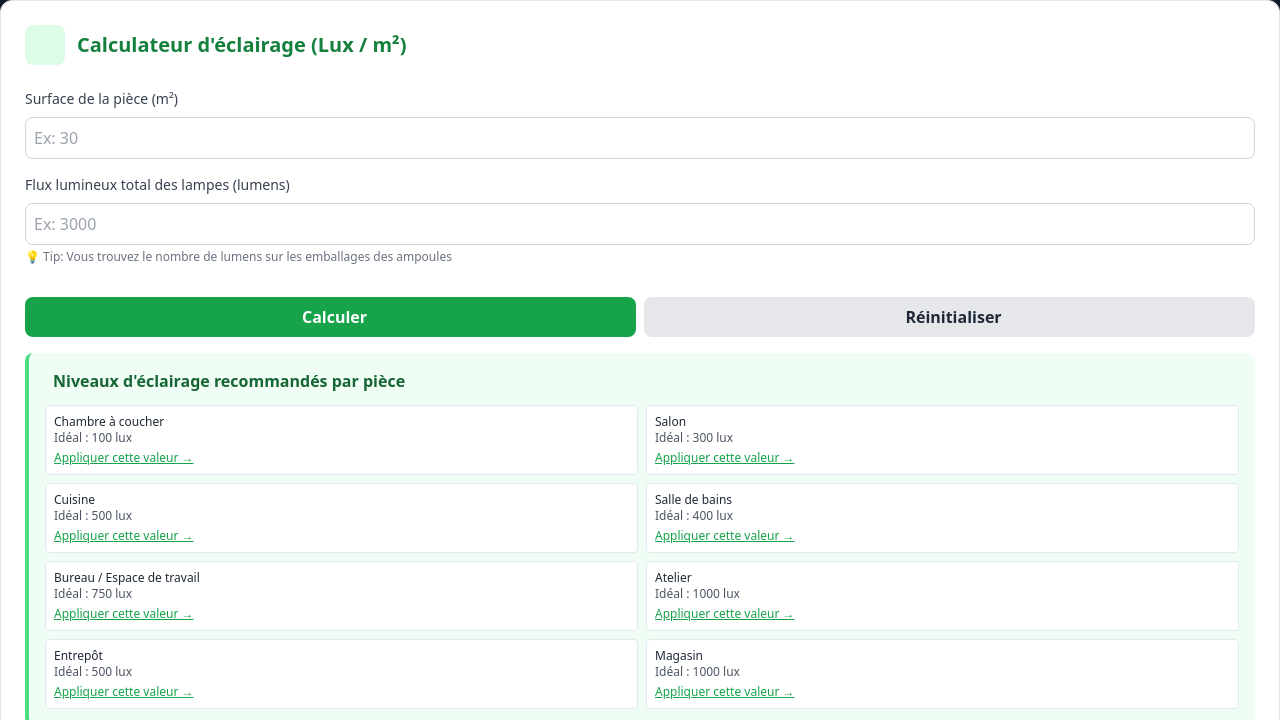
LightingCalculator › handles decimal lux values correctly
This screenshot has width=1280, height=720.
In the number field with placeholder "Ex: 30": {"x": 640, "y": 138} [25,117,1255,159], type "7.5"
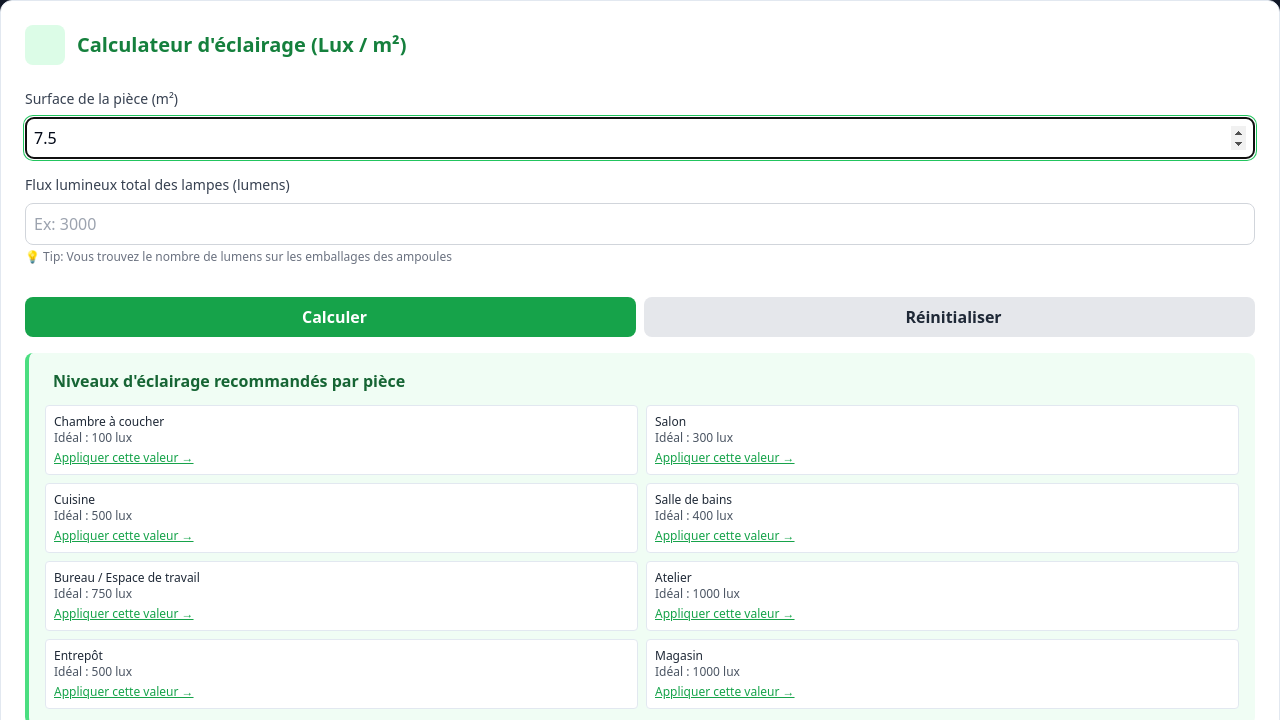
In the number field with placeholder "Ex: 3000": {"x": 640, "y": 224} [25,203,1255,245], type "1234"
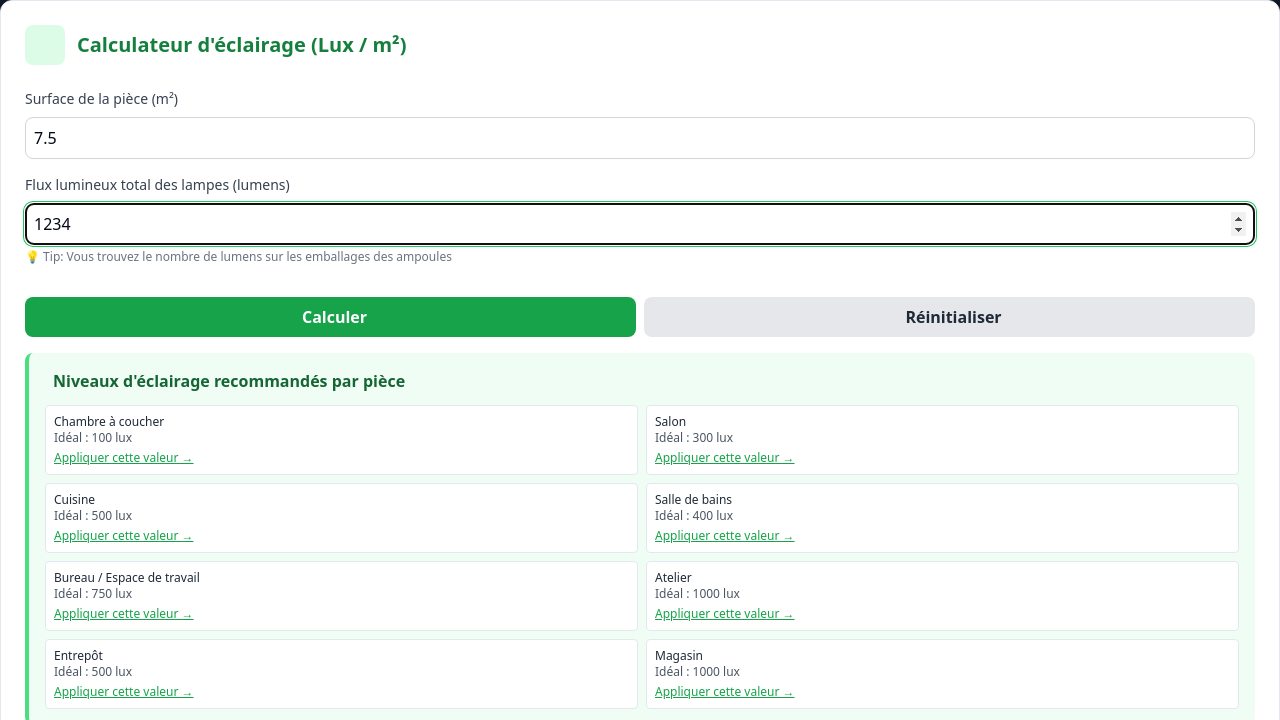
Click the button with aria-label "Calculer l'éclairement en lux": {"x": 330, "y": 317} [25,297,636,337]
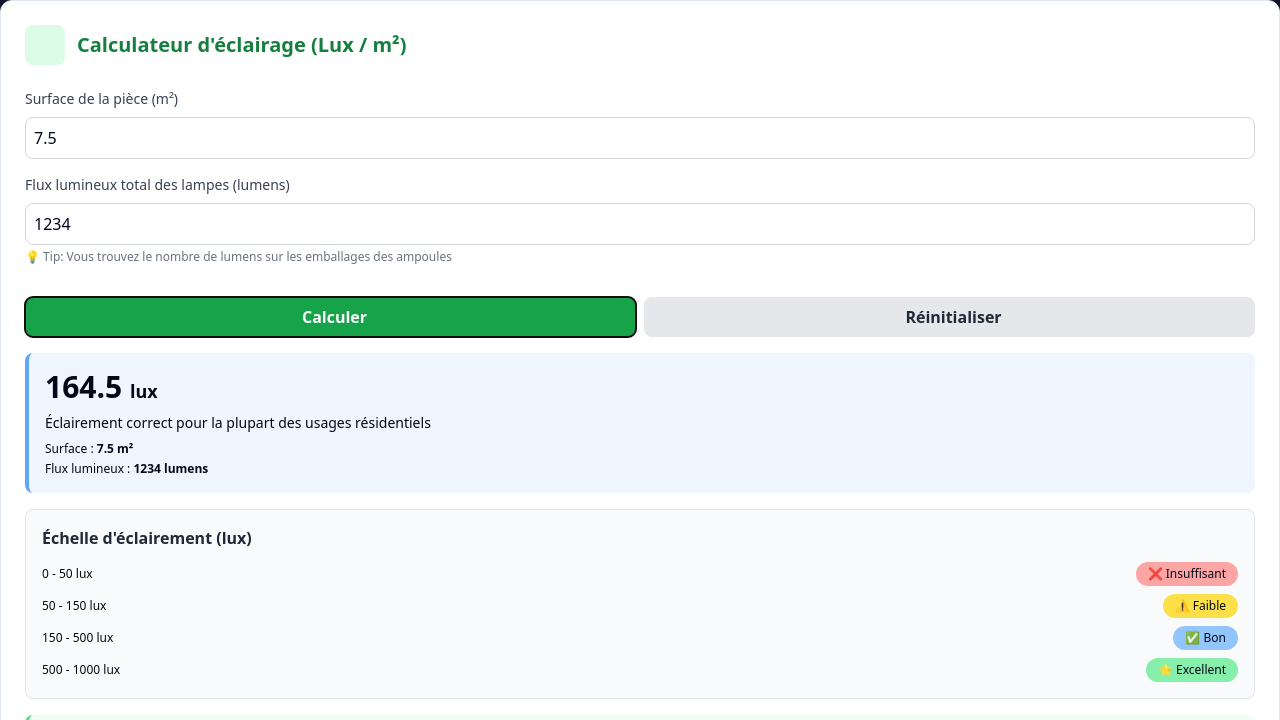
Result: the text "164.5" is shown at [45,366,122,407]
Result: the text "lux" is shown at [130,379,158,403]
